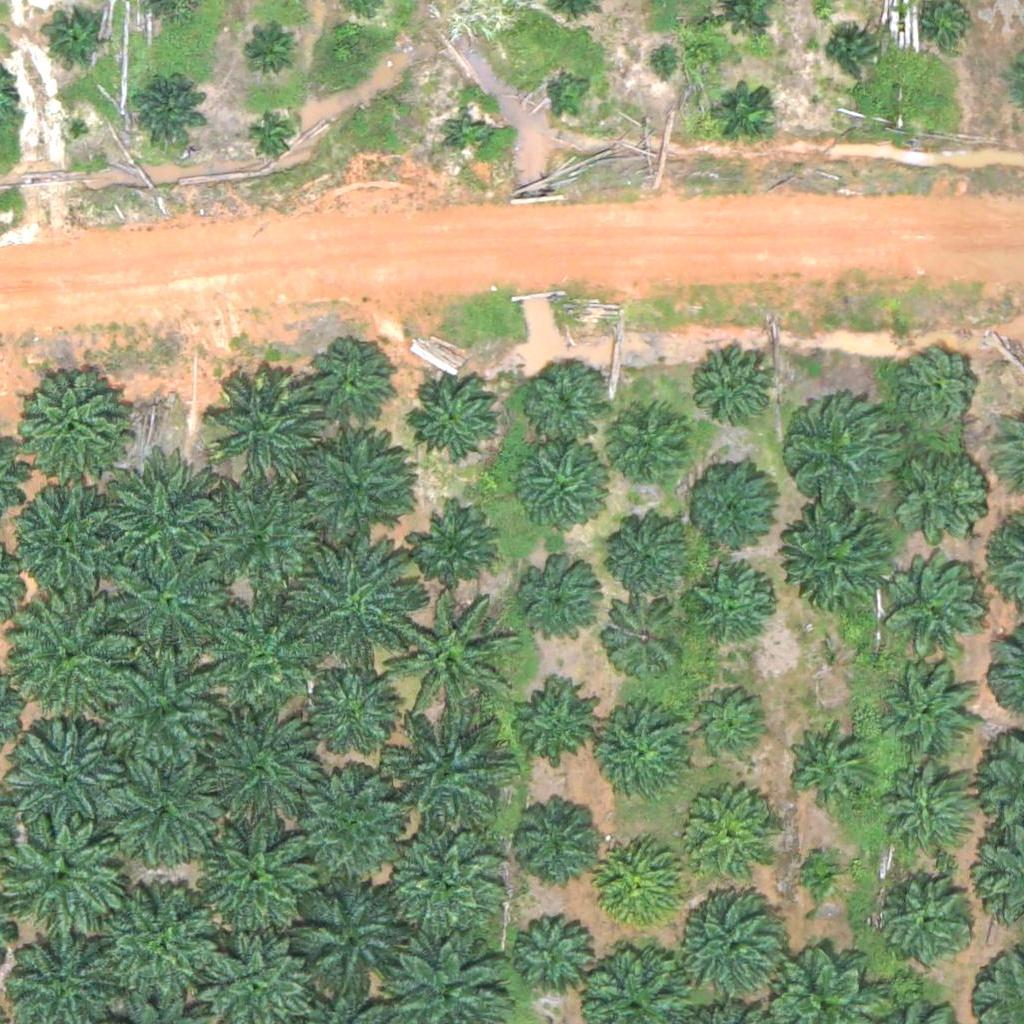Kelapa_Sawit: (205, 364, 330, 490), (197, 472, 322, 598), (202, 600, 327, 726), (202, 712, 327, 838), (196, 822, 321, 948), (96, 882, 221, 1008), (103, 649, 228, 775), (108, 541, 233, 667), (102, 461, 227, 587), (6, 481, 131, 607), (5, 710, 130, 836), (1, 815, 126, 941), (287, 543, 412, 669), (287, 769, 412, 895), (284, 876, 409, 1002), (387, 712, 512, 838), (384, 596, 509, 722), (672, 884, 797, 1010), (781, 390, 906, 516), (100, 752, 225, 877), (17, 592, 142, 717), (291, 422, 416, 547), (382, 815, 507, 940), (11, 367, 124, 481), (880, 870, 980, 971), (880, 766, 980, 867), (875, 660, 975, 761), (890, 557, 990, 658), (793, 508, 893, 609), (597, 708, 697, 808), (894, 435, 994, 535), (312, 668, 400, 756), (515, 447, 603, 535), (520, 562, 608, 650), (508, 674, 596, 762), (512, 791, 600, 879), (598, 839, 686, 927), (684, 797, 772, 885), (412, 500, 499, 589), (686, 463, 773, 552), (518, 355, 605, 443), (605, 509, 692, 597), (309, 345, 396, 433), (407, 371, 494, 459), (511, 910, 598, 998), (600, 590, 687, 678), (608, 401, 695, 489), (694, 344, 781, 432), (691, 571, 778, 659), (895, 348, 982, 436), (785, 721, 872, 809), (130, 72, 205, 148), (696, 687, 771, 762), (44, 8, 107, 71), (716, 79, 779, 142), (548, 67, 598, 118), (442, 109, 492, 160), (243, 29, 293, 79), (825, 29, 875, 79), (798, 846, 848, 896), (249, 110, 299, 160), (643, 45, 681, 83)
